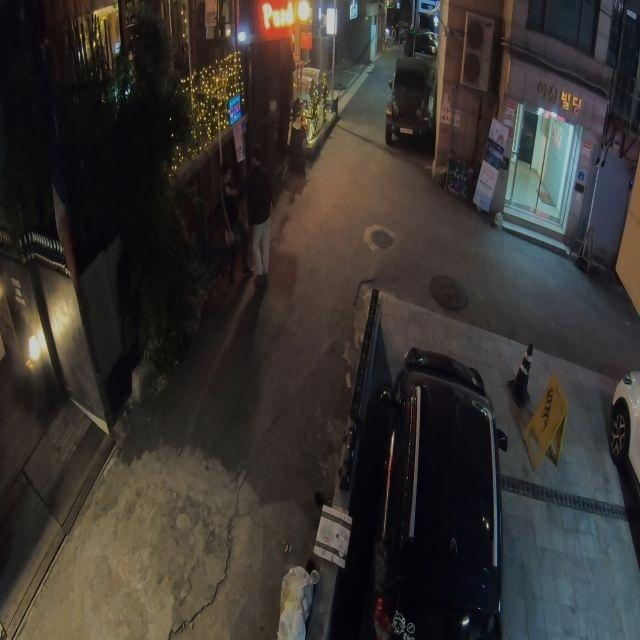fight: (211, 150, 279, 282)
